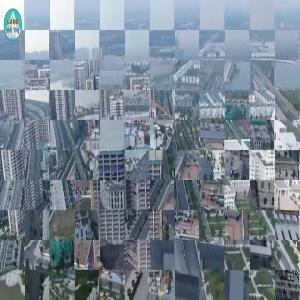drone: (141, 108, 186, 153)
